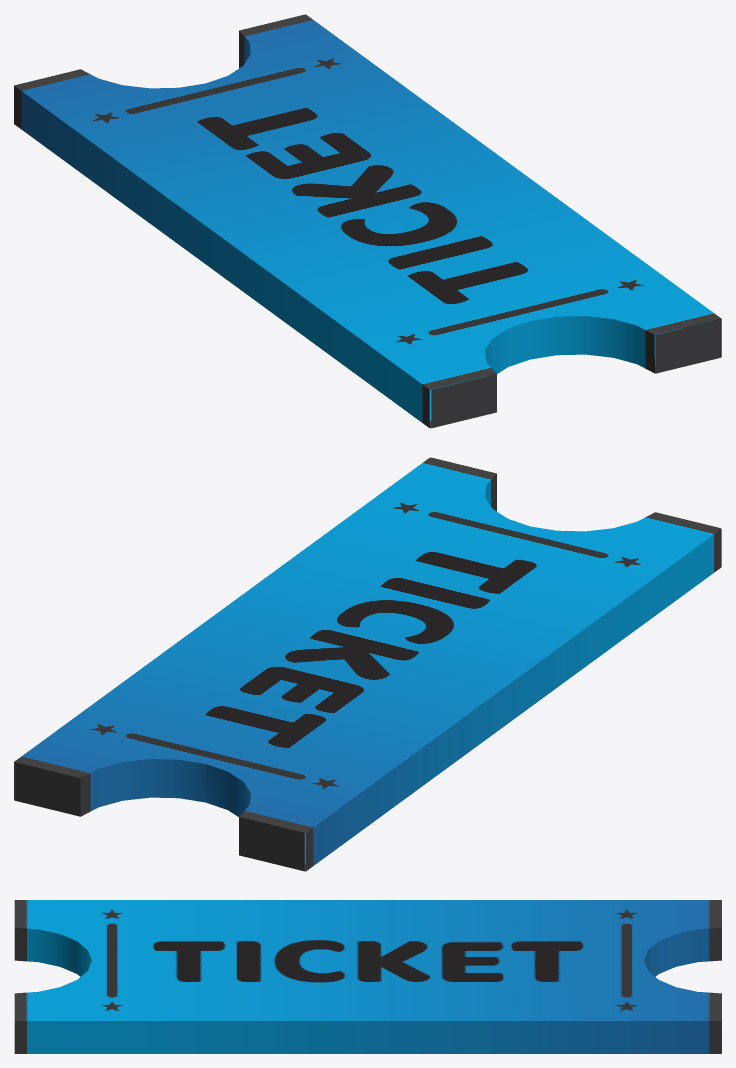
File: TicketV1.fbx
3 renders of one model, top to bottom at view 1: azimuth 30°, elevation 25°; view 2: azimuth 150°, elevation 25°; view 3: azimuth 270°, elevation 25°, orthographic. The views are drawn at different scales.
Parts seen in each view (by area): view 1: TicketV1; view 2: TicketV1; view 3: TicketV1.
Part boxes in pixels (x1=…): TicketV1: x1=14, y1=14, x2=721, y2=428; TicketV1: x1=14, y1=457, x2=721, y2=871; TicketV1: x1=14, y1=900, x2=721, y2=1053.
Size of the model in its own units: 0.1108 by 0.014 by 0.2736.
